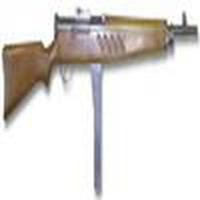gun: (1, 9, 197, 156)
